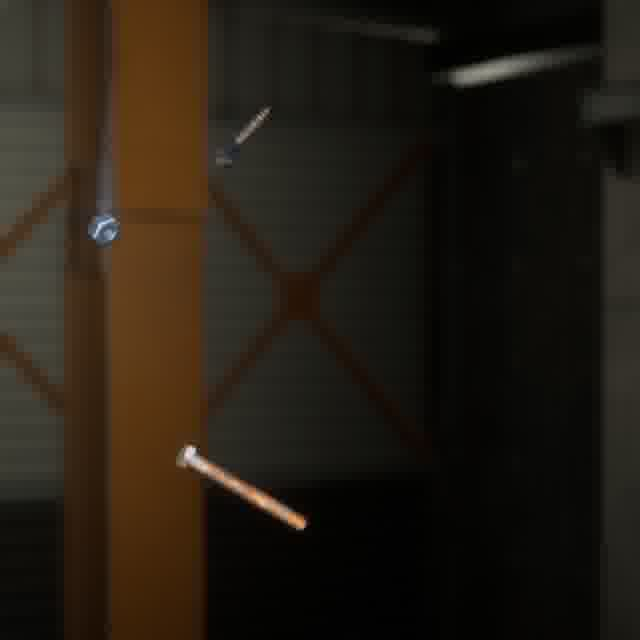bolt: (170, 437, 311, 535), (207, 102, 275, 172)
nut: (82, 207, 126, 251)
